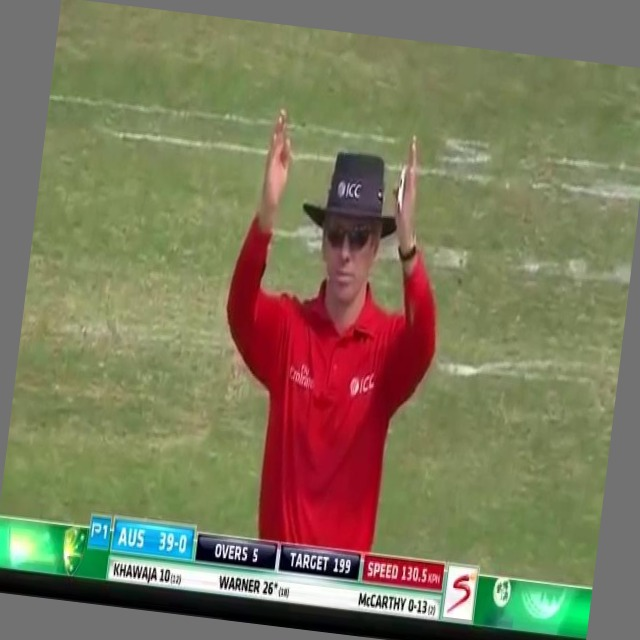Six: (192, 91, 468, 565)
